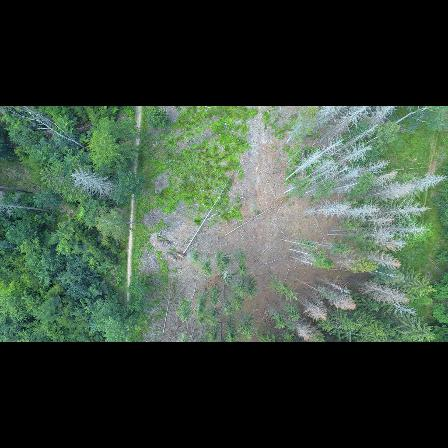Dead: (288, 136, 343, 178), (375, 175, 446, 202), (320, 107, 370, 138), (342, 107, 392, 138), (360, 279, 413, 307), (70, 169, 116, 198), (370, 203, 431, 223), (364, 250, 405, 270), (311, 163, 348, 184), (325, 290, 360, 312), (309, 200, 354, 216), (384, 224, 431, 239), (345, 203, 379, 222), (329, 179, 365, 195), (329, 164, 364, 180), (304, 298, 327, 322), (325, 277, 353, 296), (356, 160, 388, 176), (298, 315, 315, 341)
